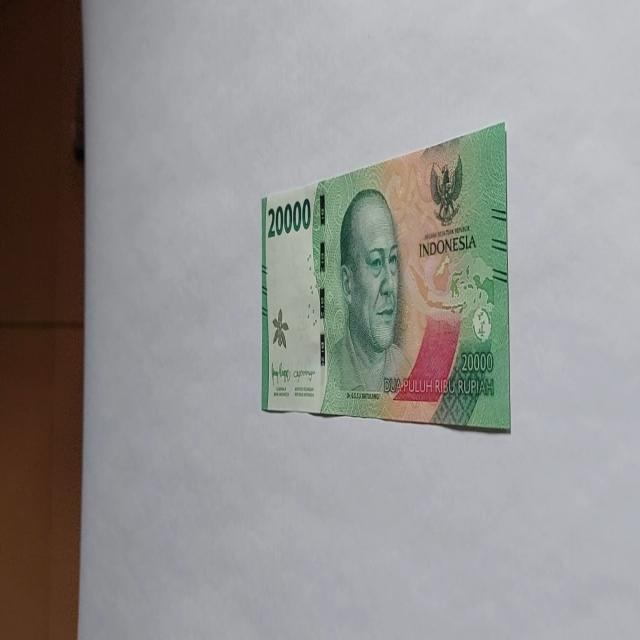dua puluh ribu rupiah: (260, 120, 510, 432), (322, 185, 413, 414)
